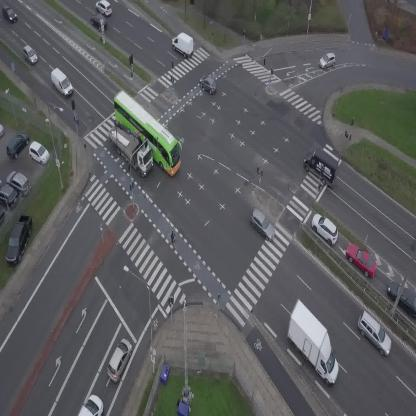bicycle: (167, 230, 178, 248)
bus: (102, 85, 193, 179)
car: (351, 310, 399, 358), (340, 238, 383, 281), (102, 336, 136, 384), (306, 209, 344, 247), (245, 207, 280, 242), (196, 72, 221, 96), (87, 11, 111, 36), (18, 43, 40, 67), (78, 395, 103, 416), (0, 3, 20, 25), (317, 51, 339, 71)
lorry: (272, 297, 357, 389), (100, 117, 162, 179), (297, 145, 346, 190), (167, 29, 200, 60), (46, 66, 77, 98)
